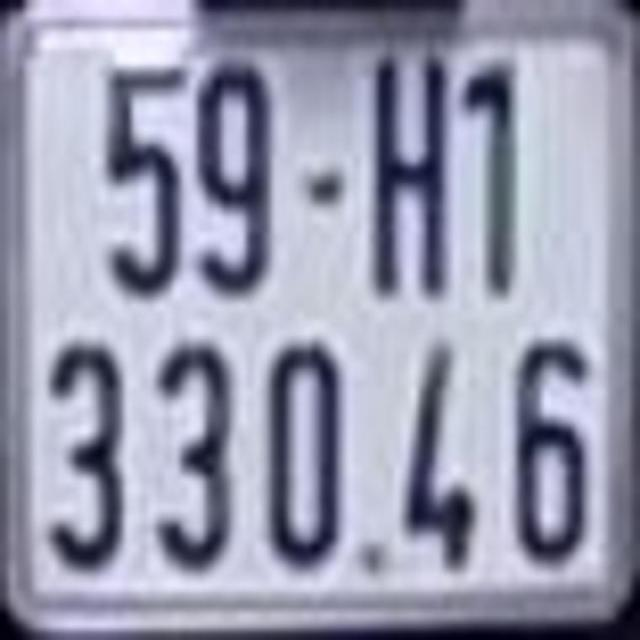0: (262, 334, 342, 566)
1: (462, 50, 533, 311)
3: (49, 332, 135, 575), (153, 332, 231, 564)
4: (401, 342, 476, 572)
5: (102, 60, 185, 295)
6: (496, 336, 596, 567)
9: (192, 50, 272, 304)
H: (363, 49, 456, 320)
